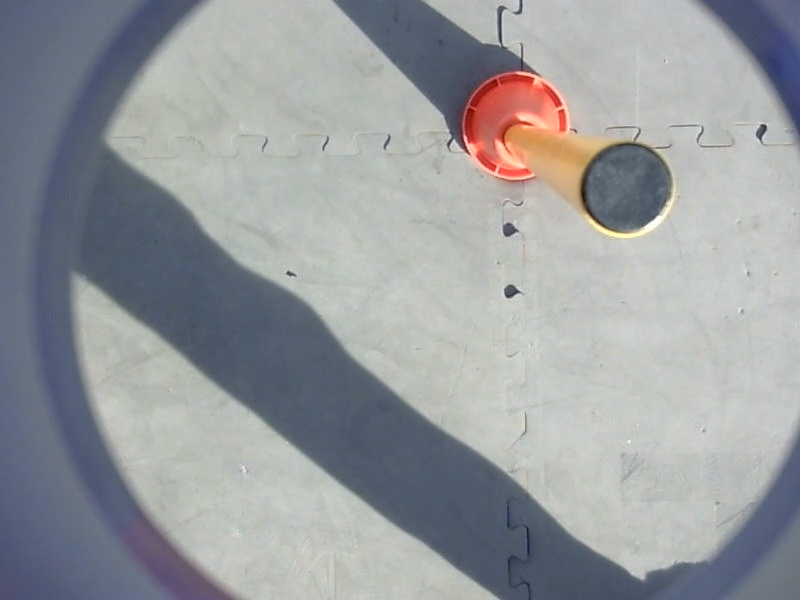tip: (573, 137, 682, 244)
